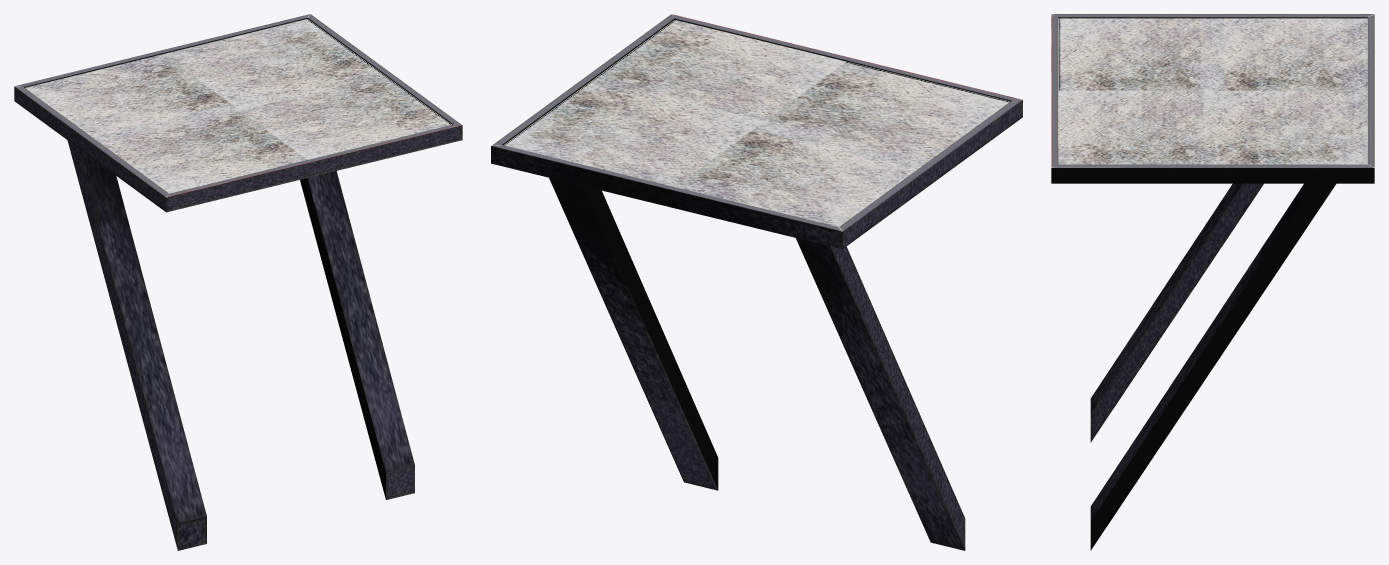
Rendered from tower3ashiba.obj.
The picture shows the model from 3 angles, left to right: view 1: azimuth 30°, elevation 25°; view 2: azimuth 150°, elevation 25°; view 3: azimuth 270°, elevation 25°; orthographic projection. The views are drawn at different scales.
Bounding box in the file's own units: 6.37 × 7.68 × 5.66.
1 material, 1 textured.
